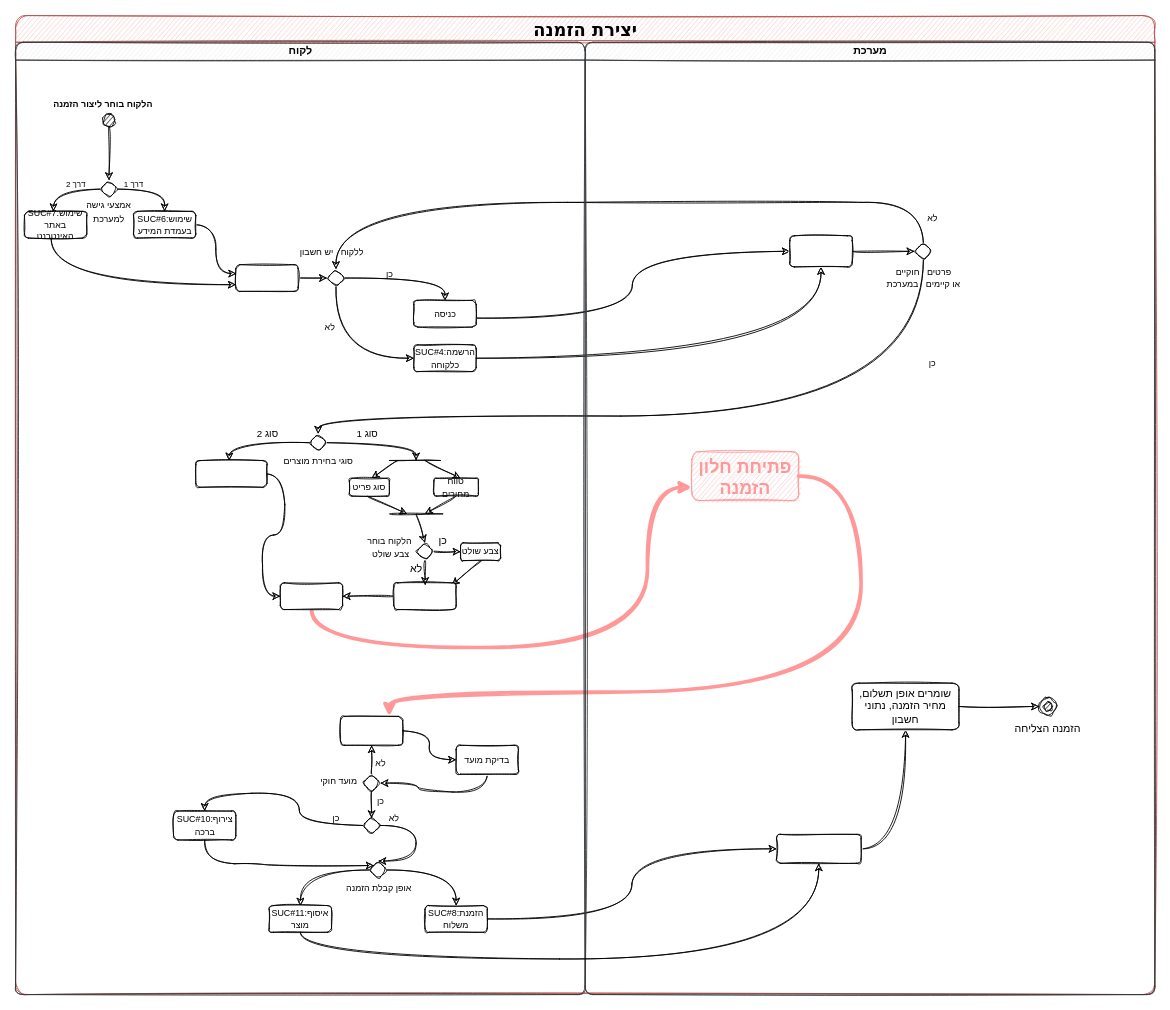
The diagram is 1170 pixels wide and 1010 high, and some of its shapes have lost their labels. Here are the shapes that lost their labels. From the top down, the centre of each, then its label:
point 820,251: בדיקת פרטי חשבון
point 266,277: SUC#1:עיון בקטלוג
point 231,473: בחירה מהקטלוג
point 311,596: מוצרים
point 424,596: הגדרה עצמית
point 371,730: ציון מועד לקבלת הזמנה
point 371,825: ברכה
point 818,848: SUC#12:תשלום
